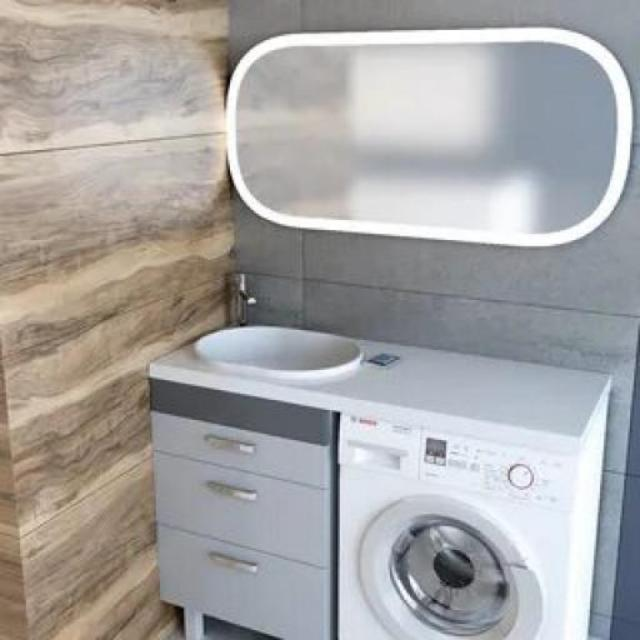Washing-Machine: (352, 414, 600, 640)
